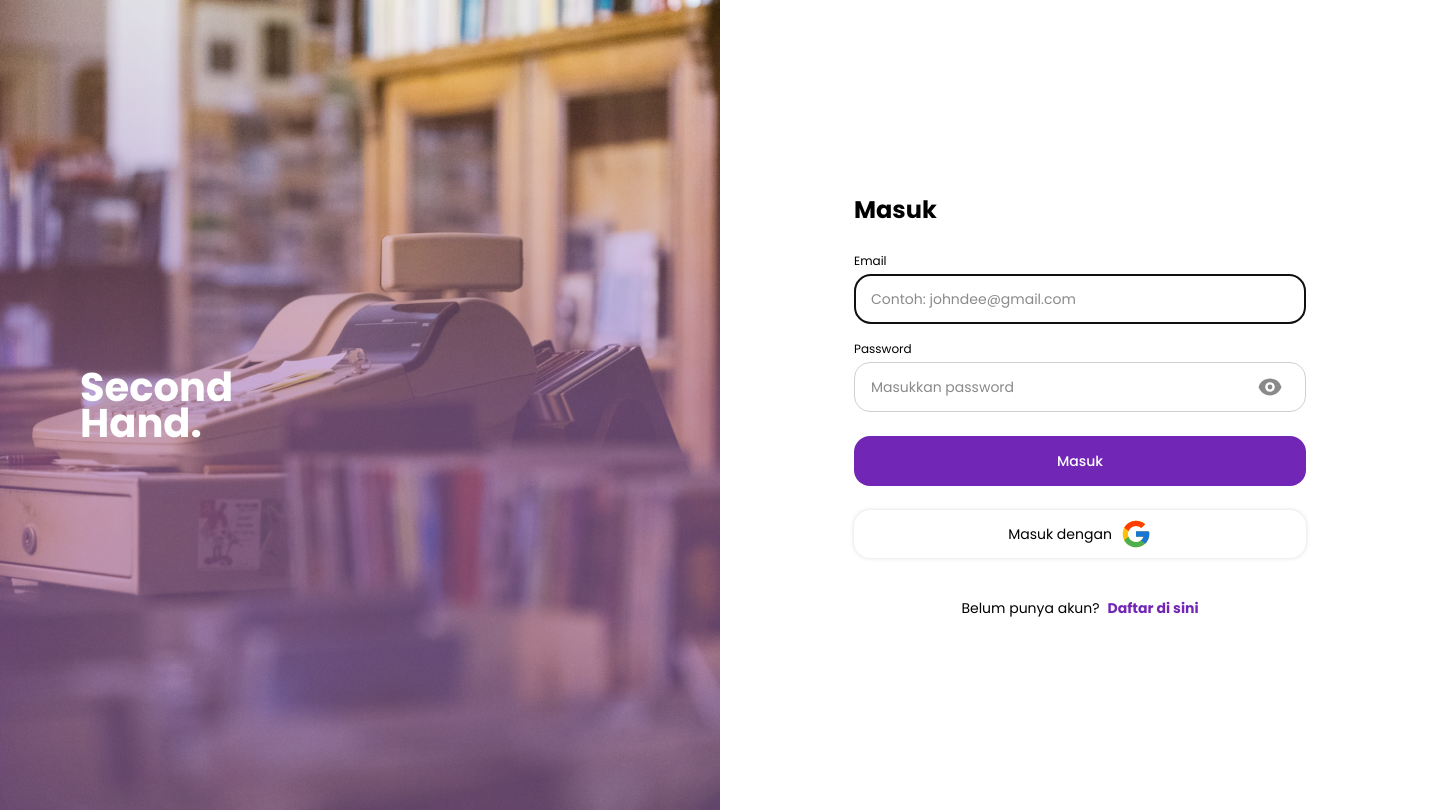
Scenario: Login page render alert properly › should render alert message "something went wrong"
Click the button with test id "login-button" at (1080, 461), box x1=854 y1=436 x2=1306 y2=486
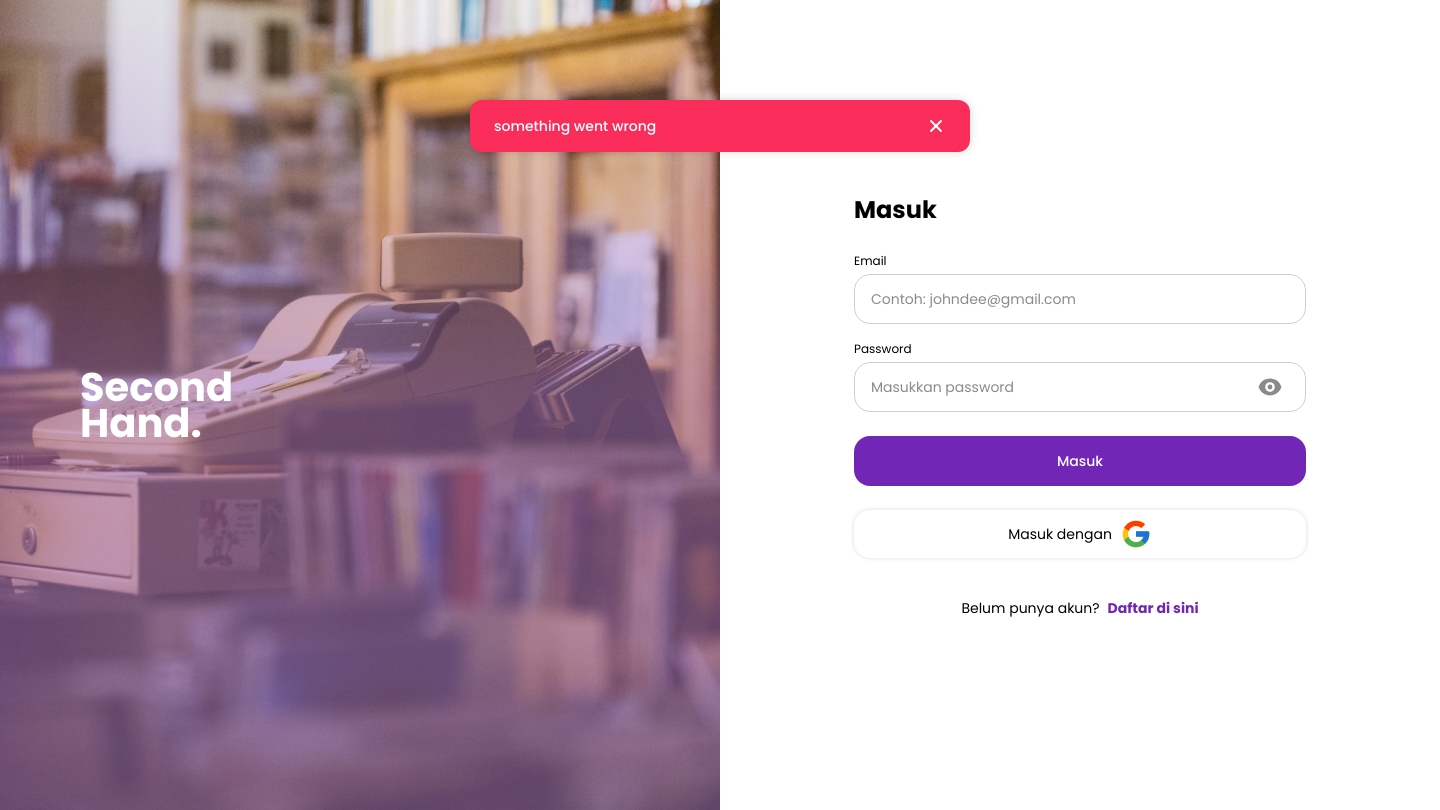
Expected: the text "something went wrong" is shown, x1=494 y1=116 x2=656 y2=136
